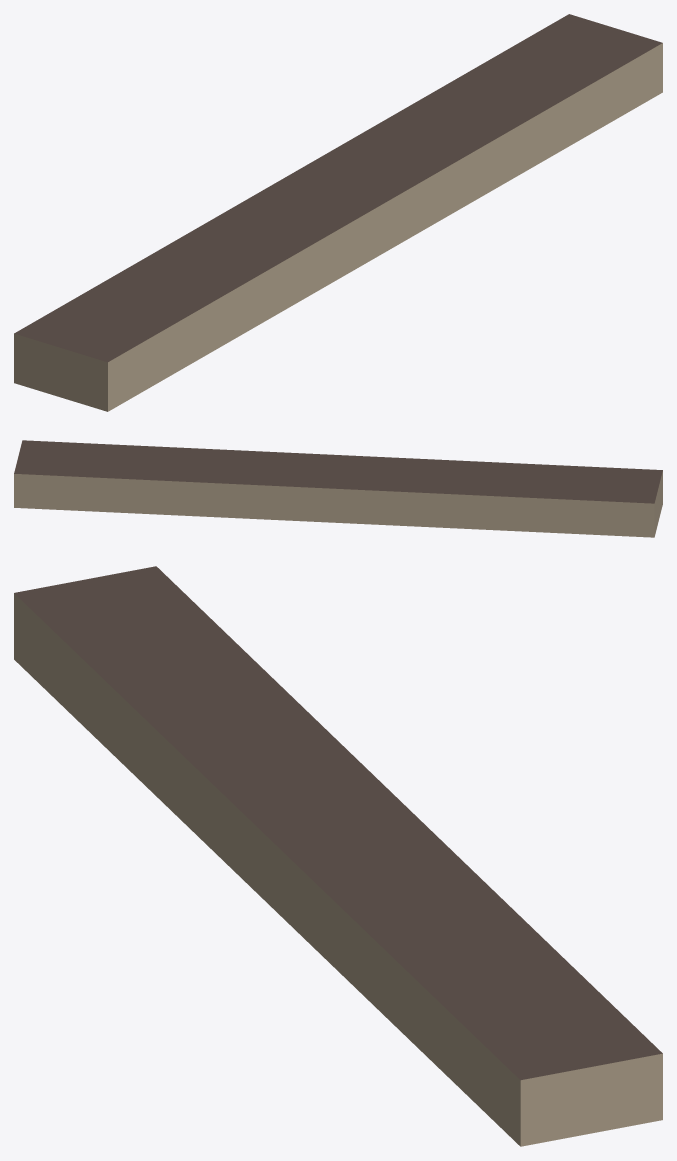
3 renders of one model, top to bottom at view 1: azimuth 30°, elevation 25°; view 2: azimuth 150°, elevation 25°; view 3: azimuth 270°, elevation 25°, orthographic. The views are drawn at different scales.
Parts seen in each view (by area): view 1: HP-w859086207; view 2: HP-w859086207; view 3: HP-w859086207.
Boxes of the visible parts, x1,y1,x2,y2 form: HP-w859086207: (14, 14, 662, 411); HP-w859086207: (14, 440, 662, 537); HP-w859086207: (14, 566, 662, 1146).
Size of the model in its own units: 99.42 by 6 by 53.04.
